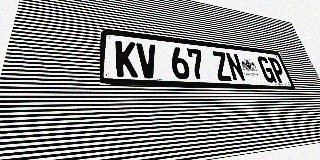6: (169, 46, 191, 79)
7: (186, 48, 208, 80)
G: (256, 56, 277, 83)
K: (115, 40, 138, 77)
N: (225, 52, 246, 82)
P: (267, 57, 288, 83)
V: (136, 43, 159, 78)
Z: (211, 51, 233, 81)
